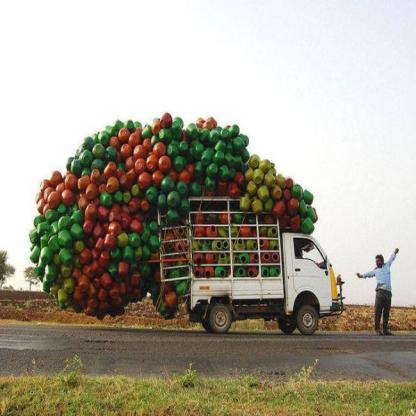overloaded-truck: (22, 111, 368, 370)
